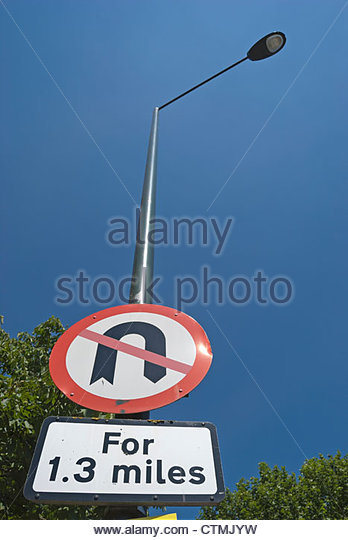No_u_turn: (49, 303, 212, 412)
